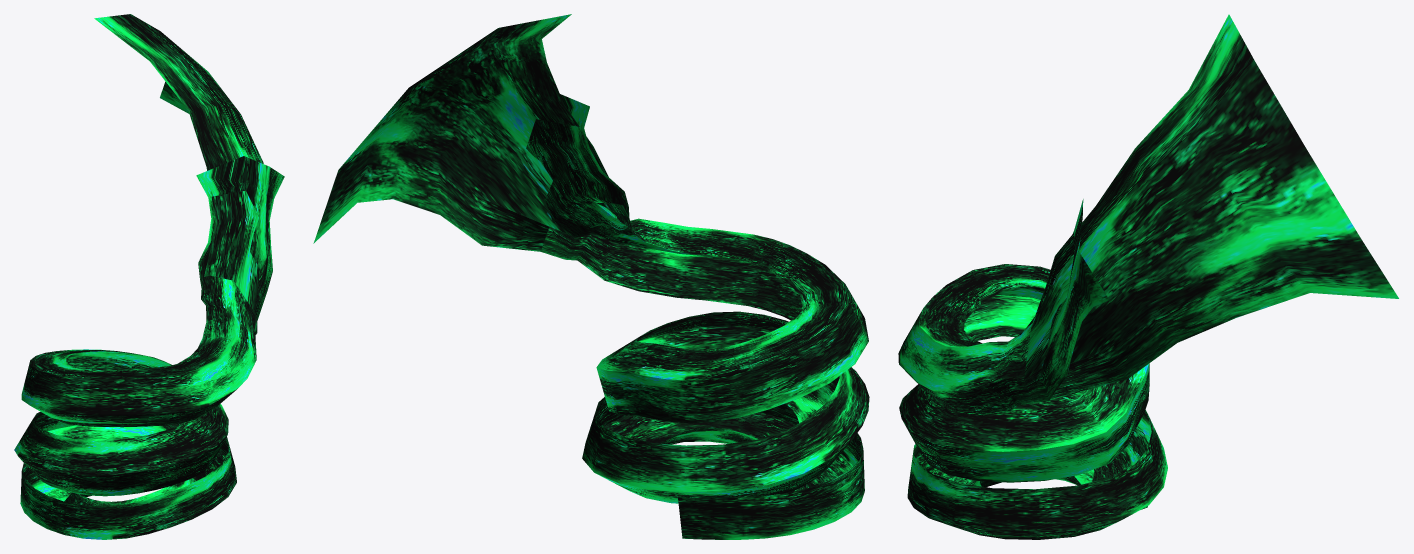
Rendered from guangxiao_a.FBX.
The picture shows the model from 3 angles, left to right: view 1: azimuth 30°, elevation 25°; view 2: azimuth 150°, elevation 25°; view 3: azimuth 270°, elevation 25°; orthographic projection. The views are drawn at different scales.
Parts seen in each view (by area): view 1: Line001; view 2: Line001; view 3: Line001.
Part boxes in pixels (<box>): Line001: <box>14,14,284,539</box>; Line001: <box>313,14,869,539</box>; Line001: <box>898,14,1398,539</box>.
Size of the model in its own units: 92.38 by 133 by 112.
